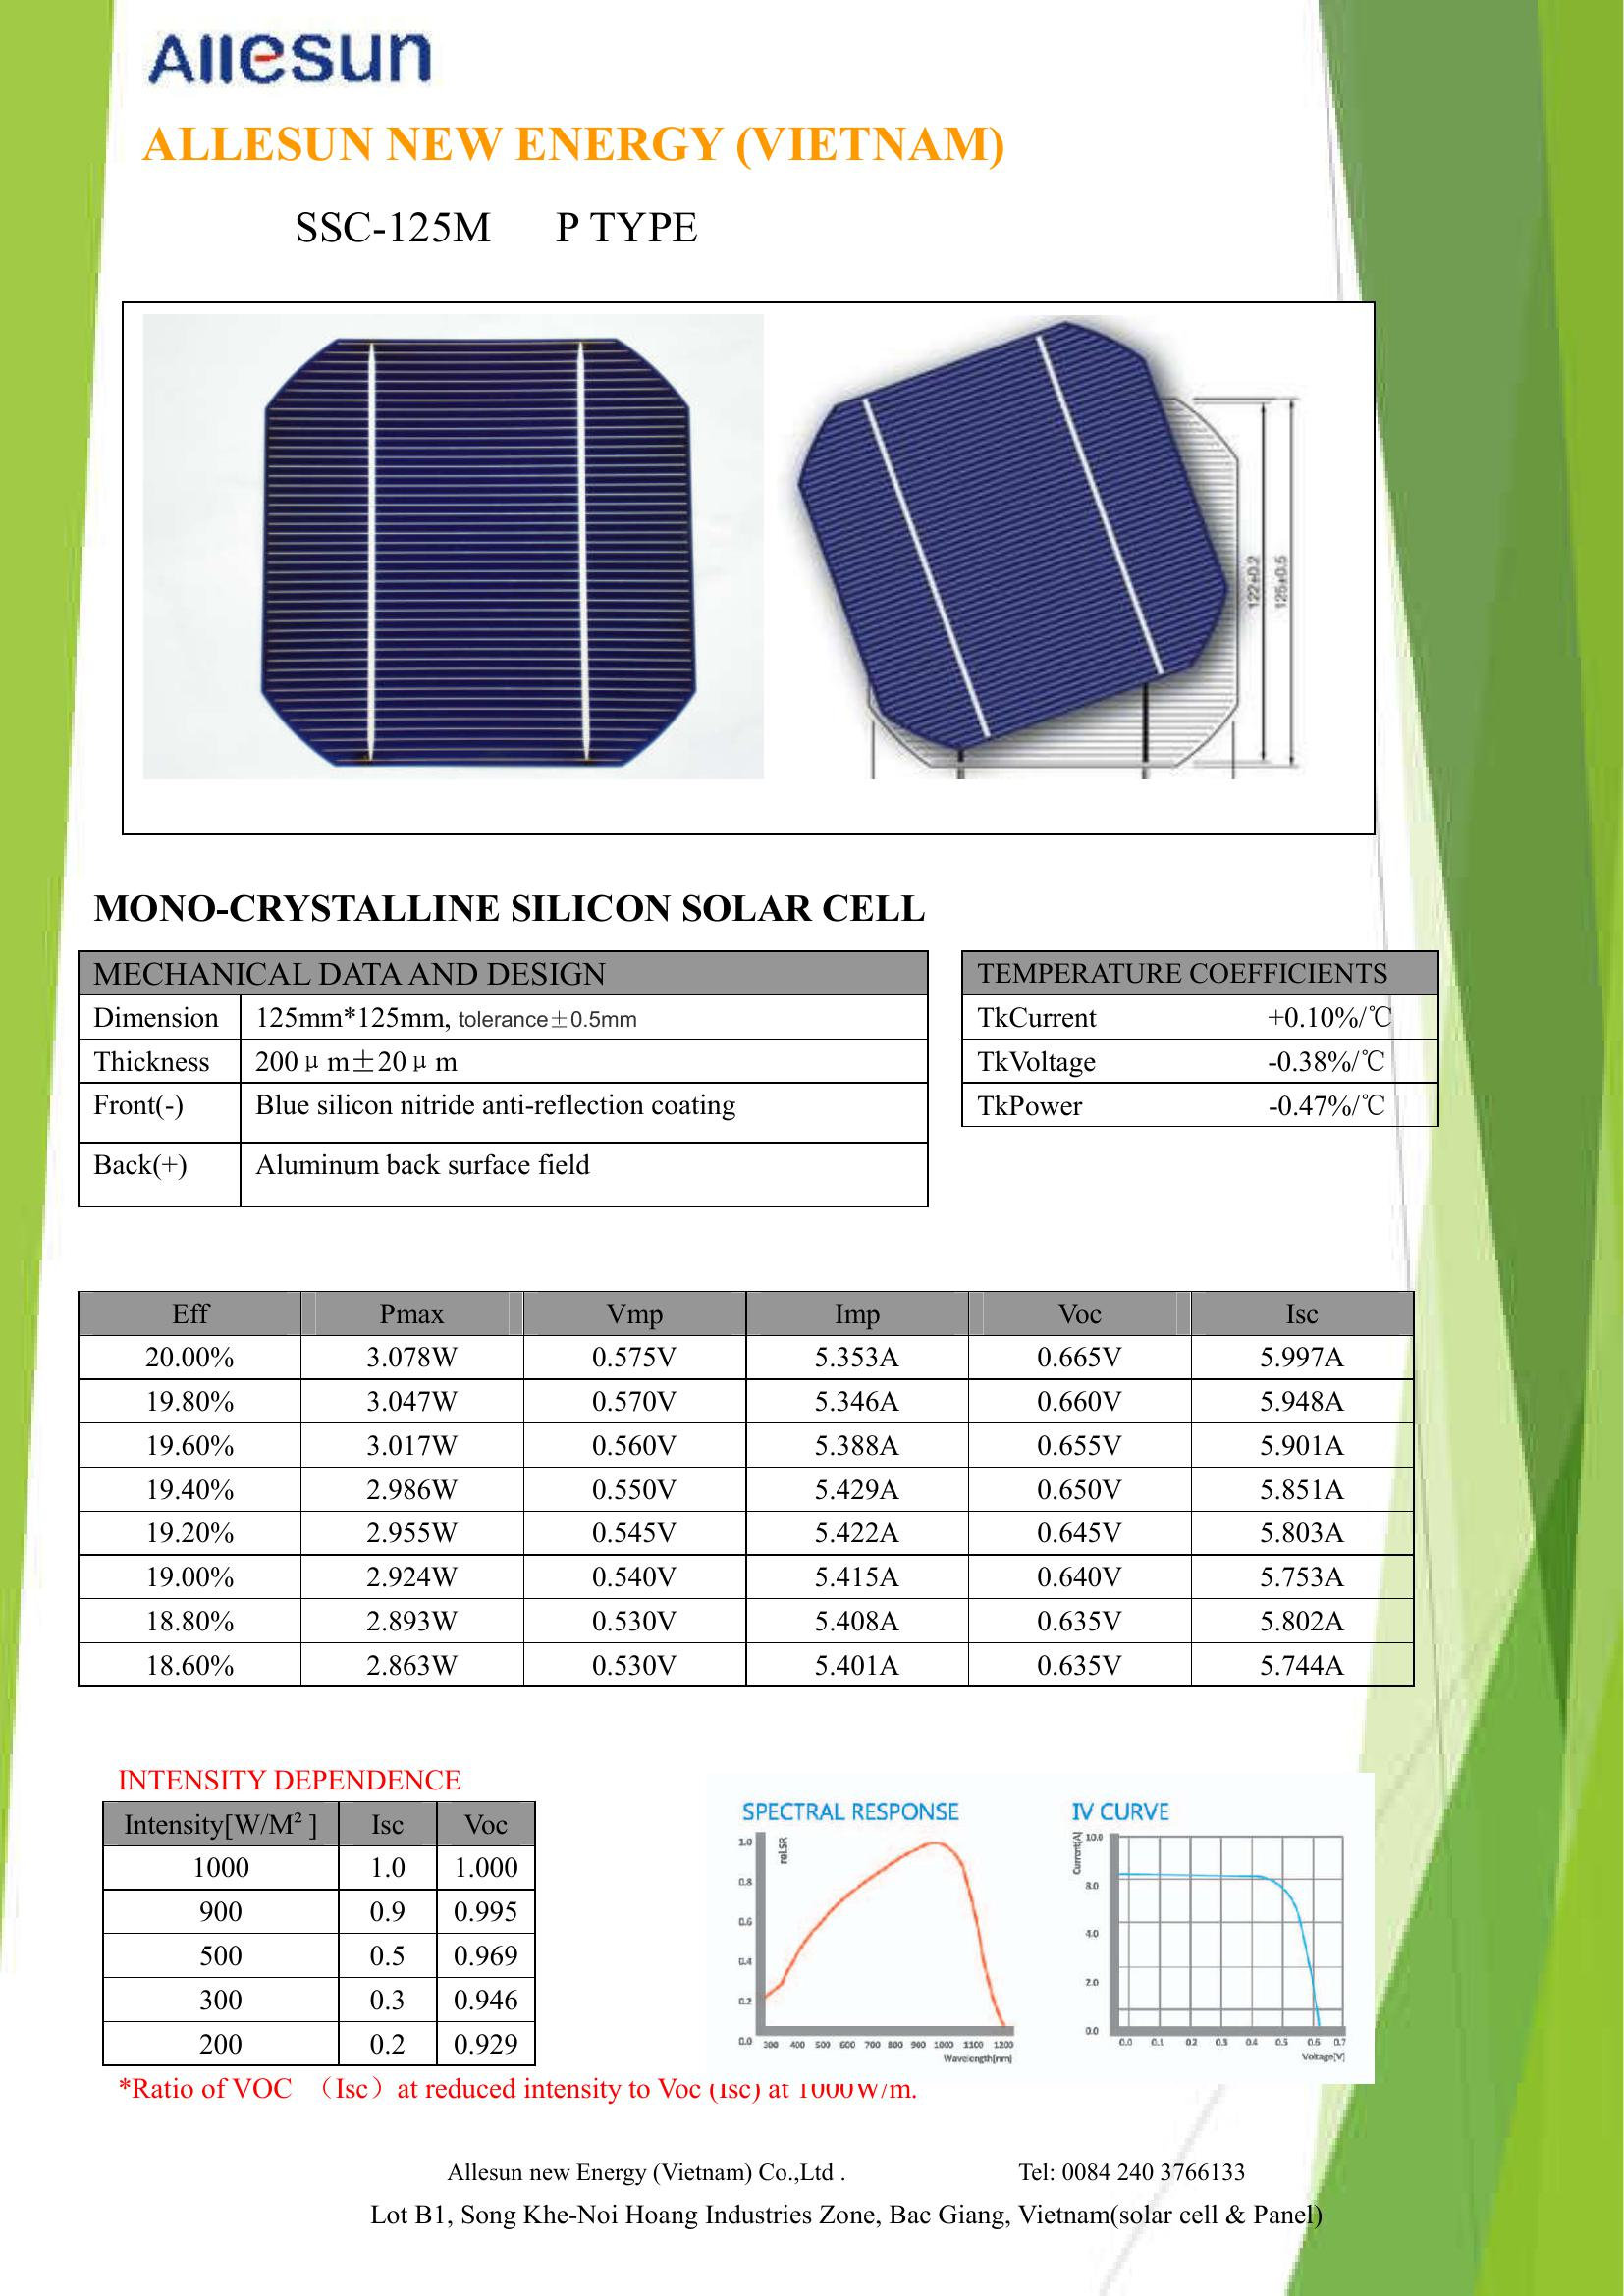table: (56, 1279, 1432, 1702), (65, 984, 935, 1217), (83, 1790, 550, 2073), (947, 989, 1471, 1140)
